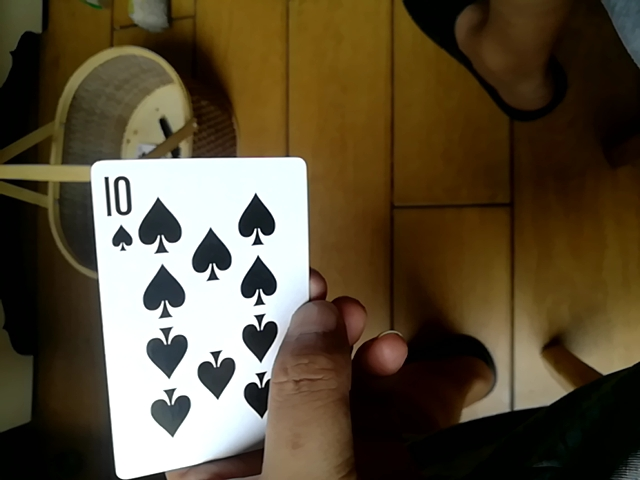ht 10: (89, 155, 309, 478)
